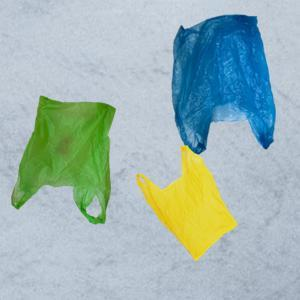plastic_bag: (161, 12, 278, 154), (10, 93, 121, 227), (130, 139, 239, 263)
